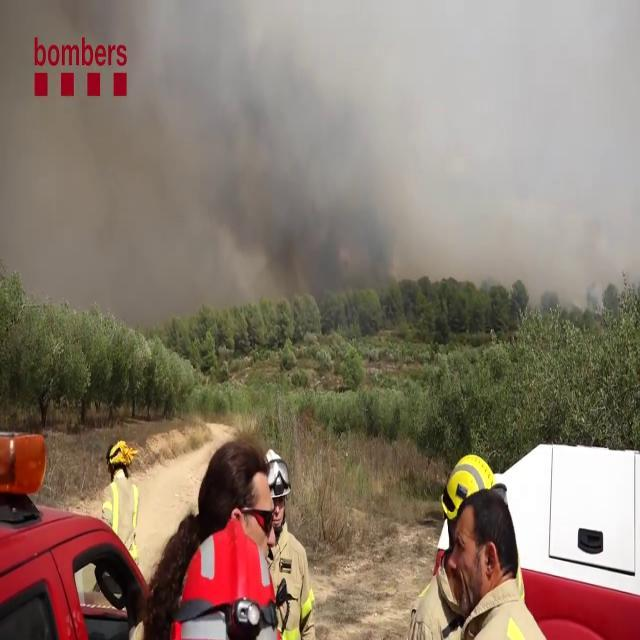Smoke: (8, 0, 635, 317)
